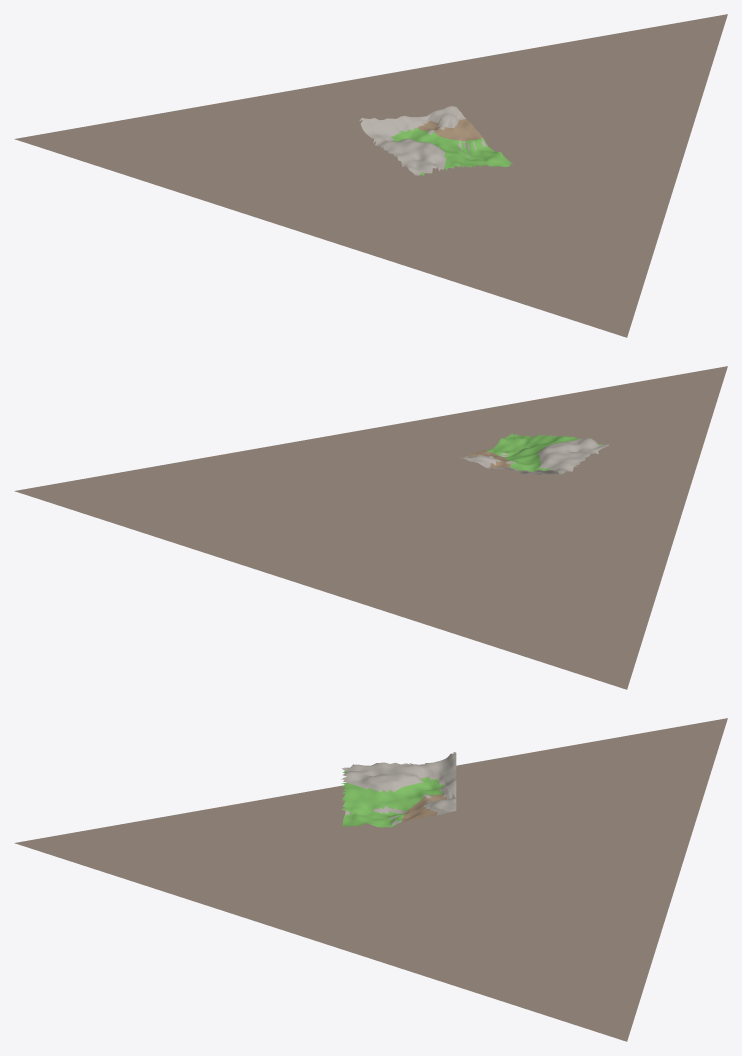
File: flagship_terrain_211.glb
3 views of the same model, one above another, from view 1: azimuth 30°, elevation 25°; view 2: azimuth 150°, elevation 25°; view 3: azimuth 270°, elevation 25° (orthographic).
Visible parts, largest first — view 1: Terrain_211; view 2: Terrain_211; view 3: Terrain_211.
Part boxes in pixels (<box>): Terrain_211: <box>14,14,727,337</box>; Terrain_211: <box>14,366,727,689</box>; Terrain_211: <box>14,718,727,1041</box>.
Size of the model in its own units: 206 by 20.45 by 192.
